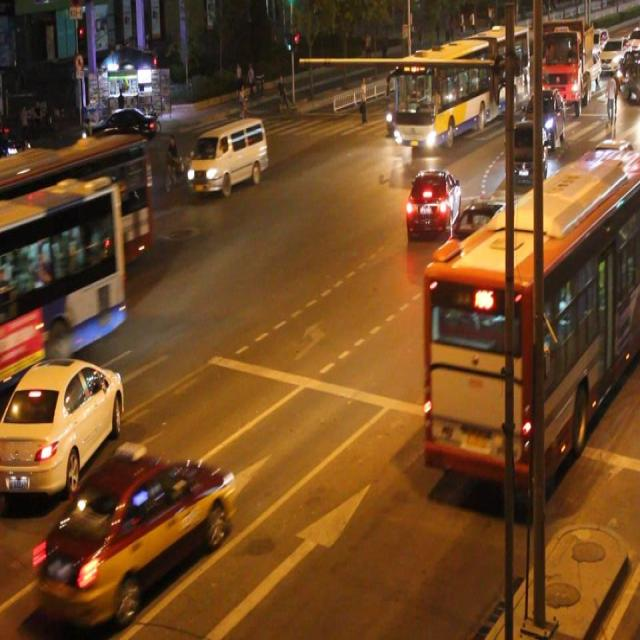car: (44, 454, 235, 621), (1, 358, 122, 493), (443, 198, 507, 267), (403, 165, 460, 238), (503, 120, 544, 188)
truck: (189, 118, 267, 198)
van: (422, 144, 640, 478), (1, 133, 152, 311), (1, 186, 124, 376)
